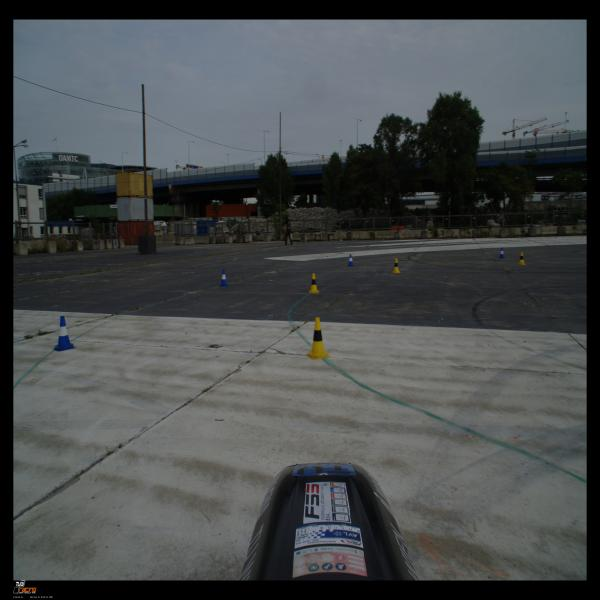blue_cone: (53, 316, 76, 352), (219, 270, 230, 286), (347, 254, 354, 267), (498, 248, 505, 258)
yellow_cone: (306, 317, 331, 360), (308, 273, 320, 294), (391, 258, 401, 274), (517, 252, 526, 266)
